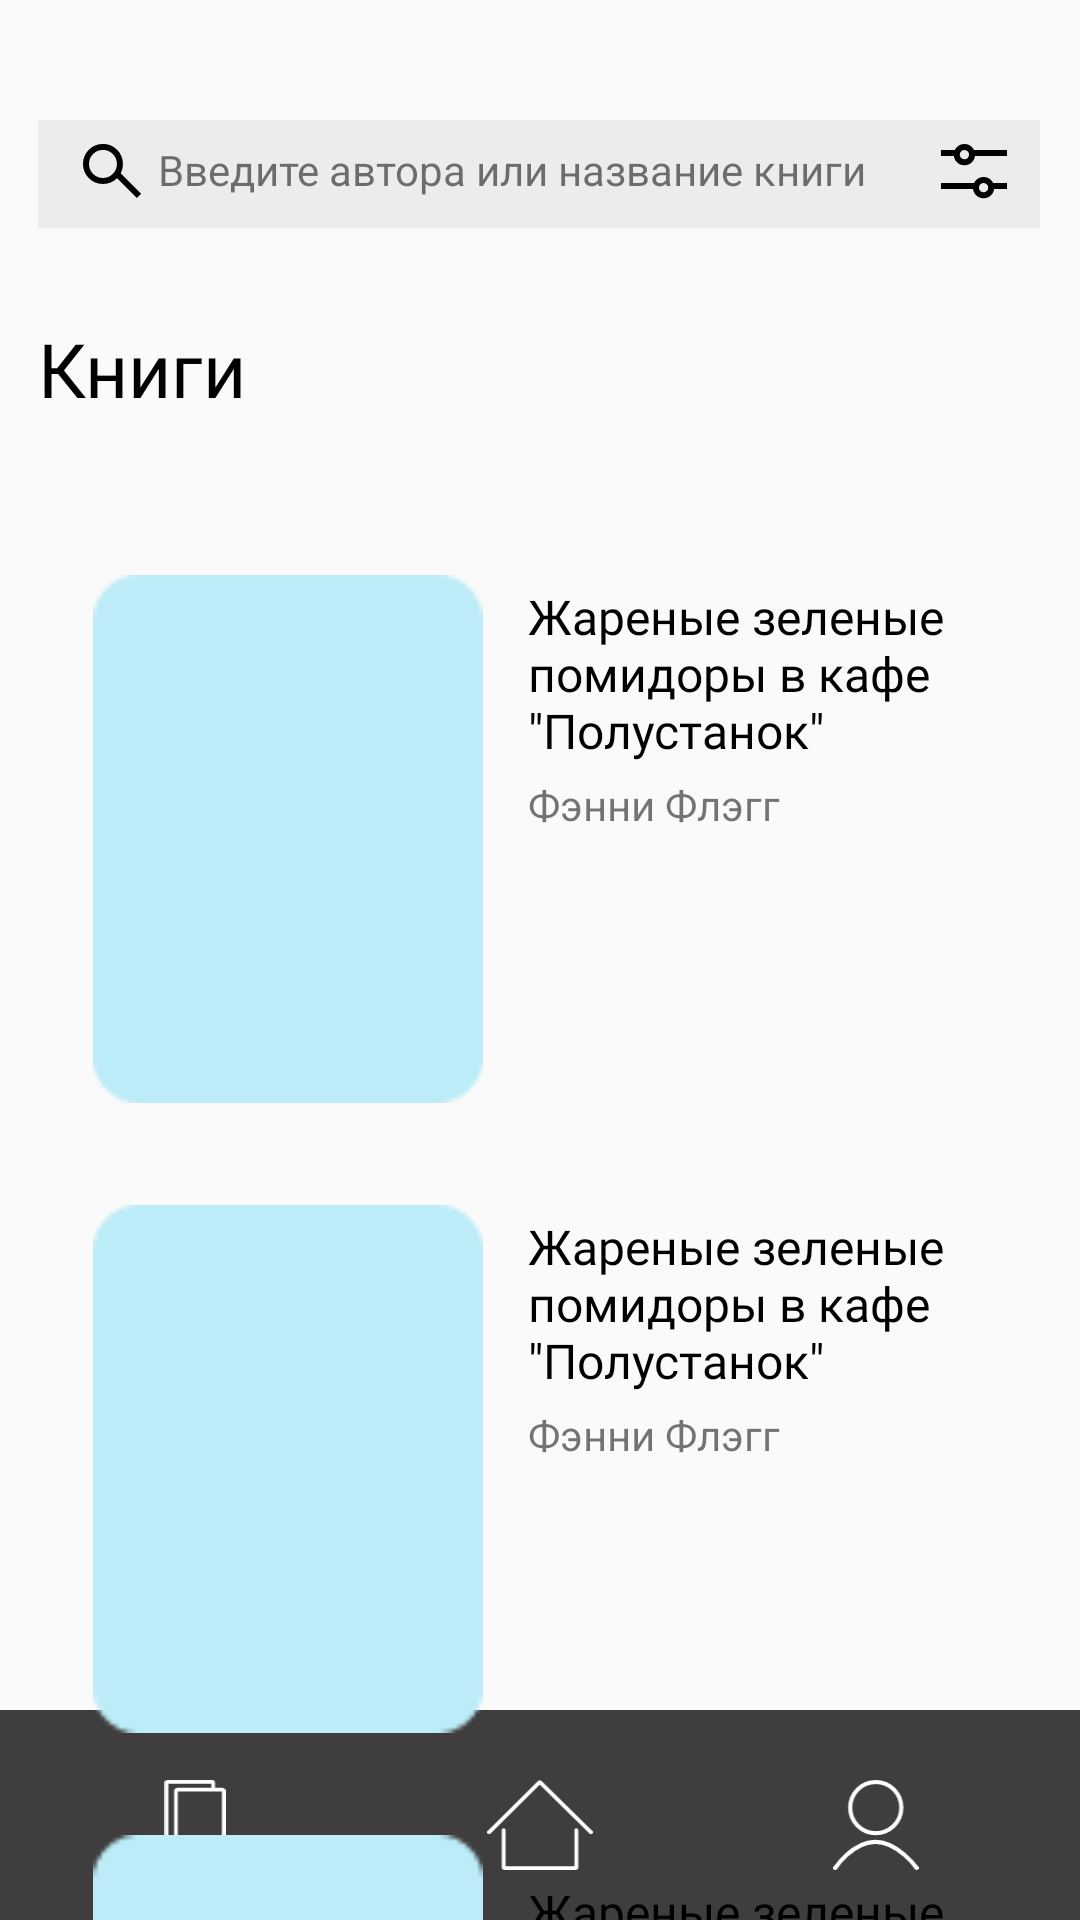

Named icons in this screenshot (1080px×1920px) and their bounding boxes, box(x1, y1, x2, y2):
filter: box(941, 144, 1007, 199)
profile: box(833, 1780, 919, 1870)
search: box(83, 144, 141, 198)
